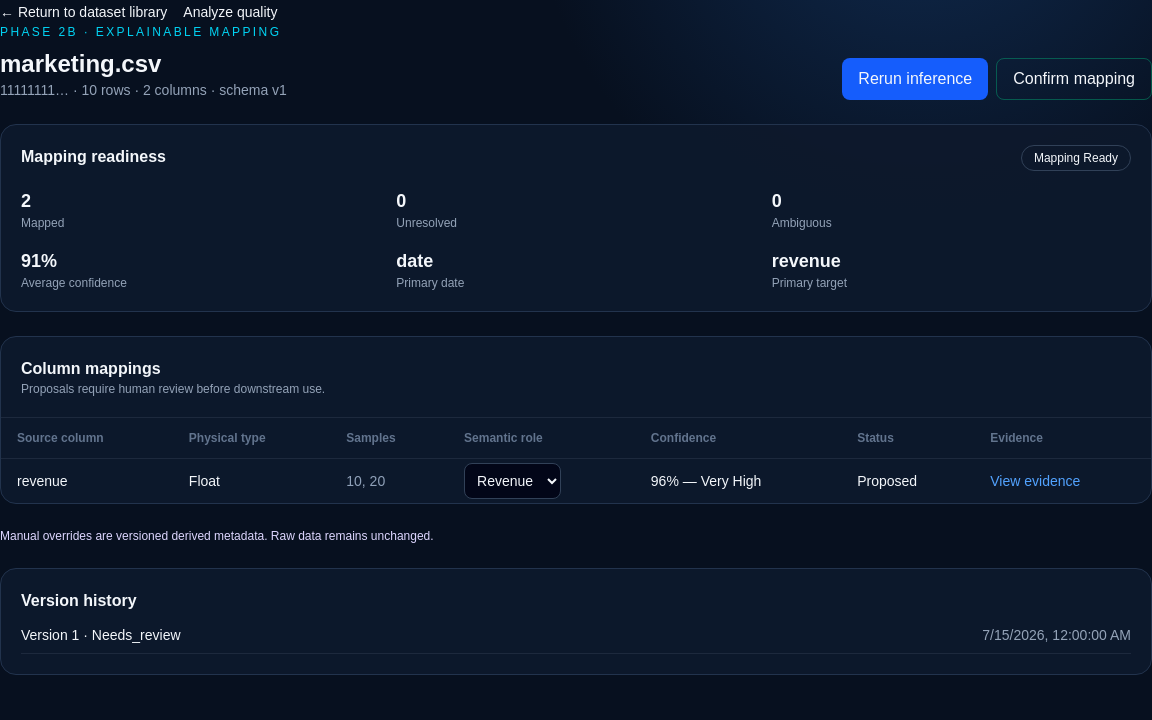
Test case: Schema mapping workspace › uses an accessible confirmation dialog
This screenshot has width=1152, height=720.
Click the button "Confirm mapping" at coordinates (1074, 79), box [996, 58, 1151, 100]
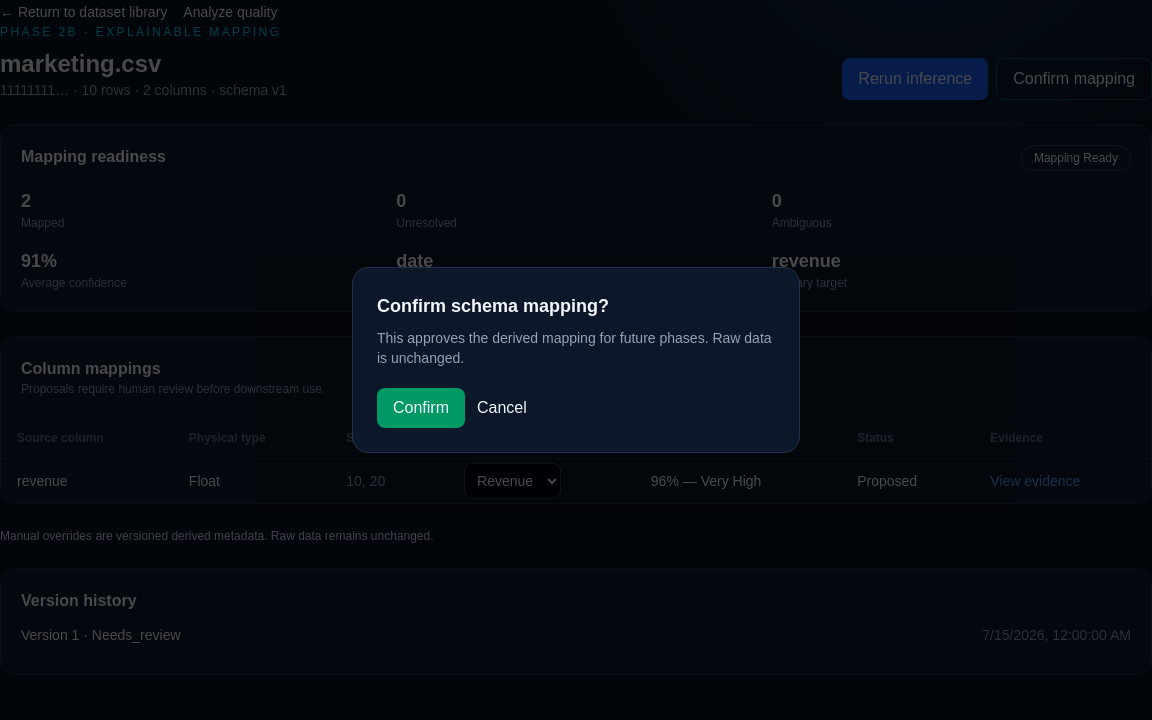
Expected: the dialog "Confirm schema mapping?" is shown
